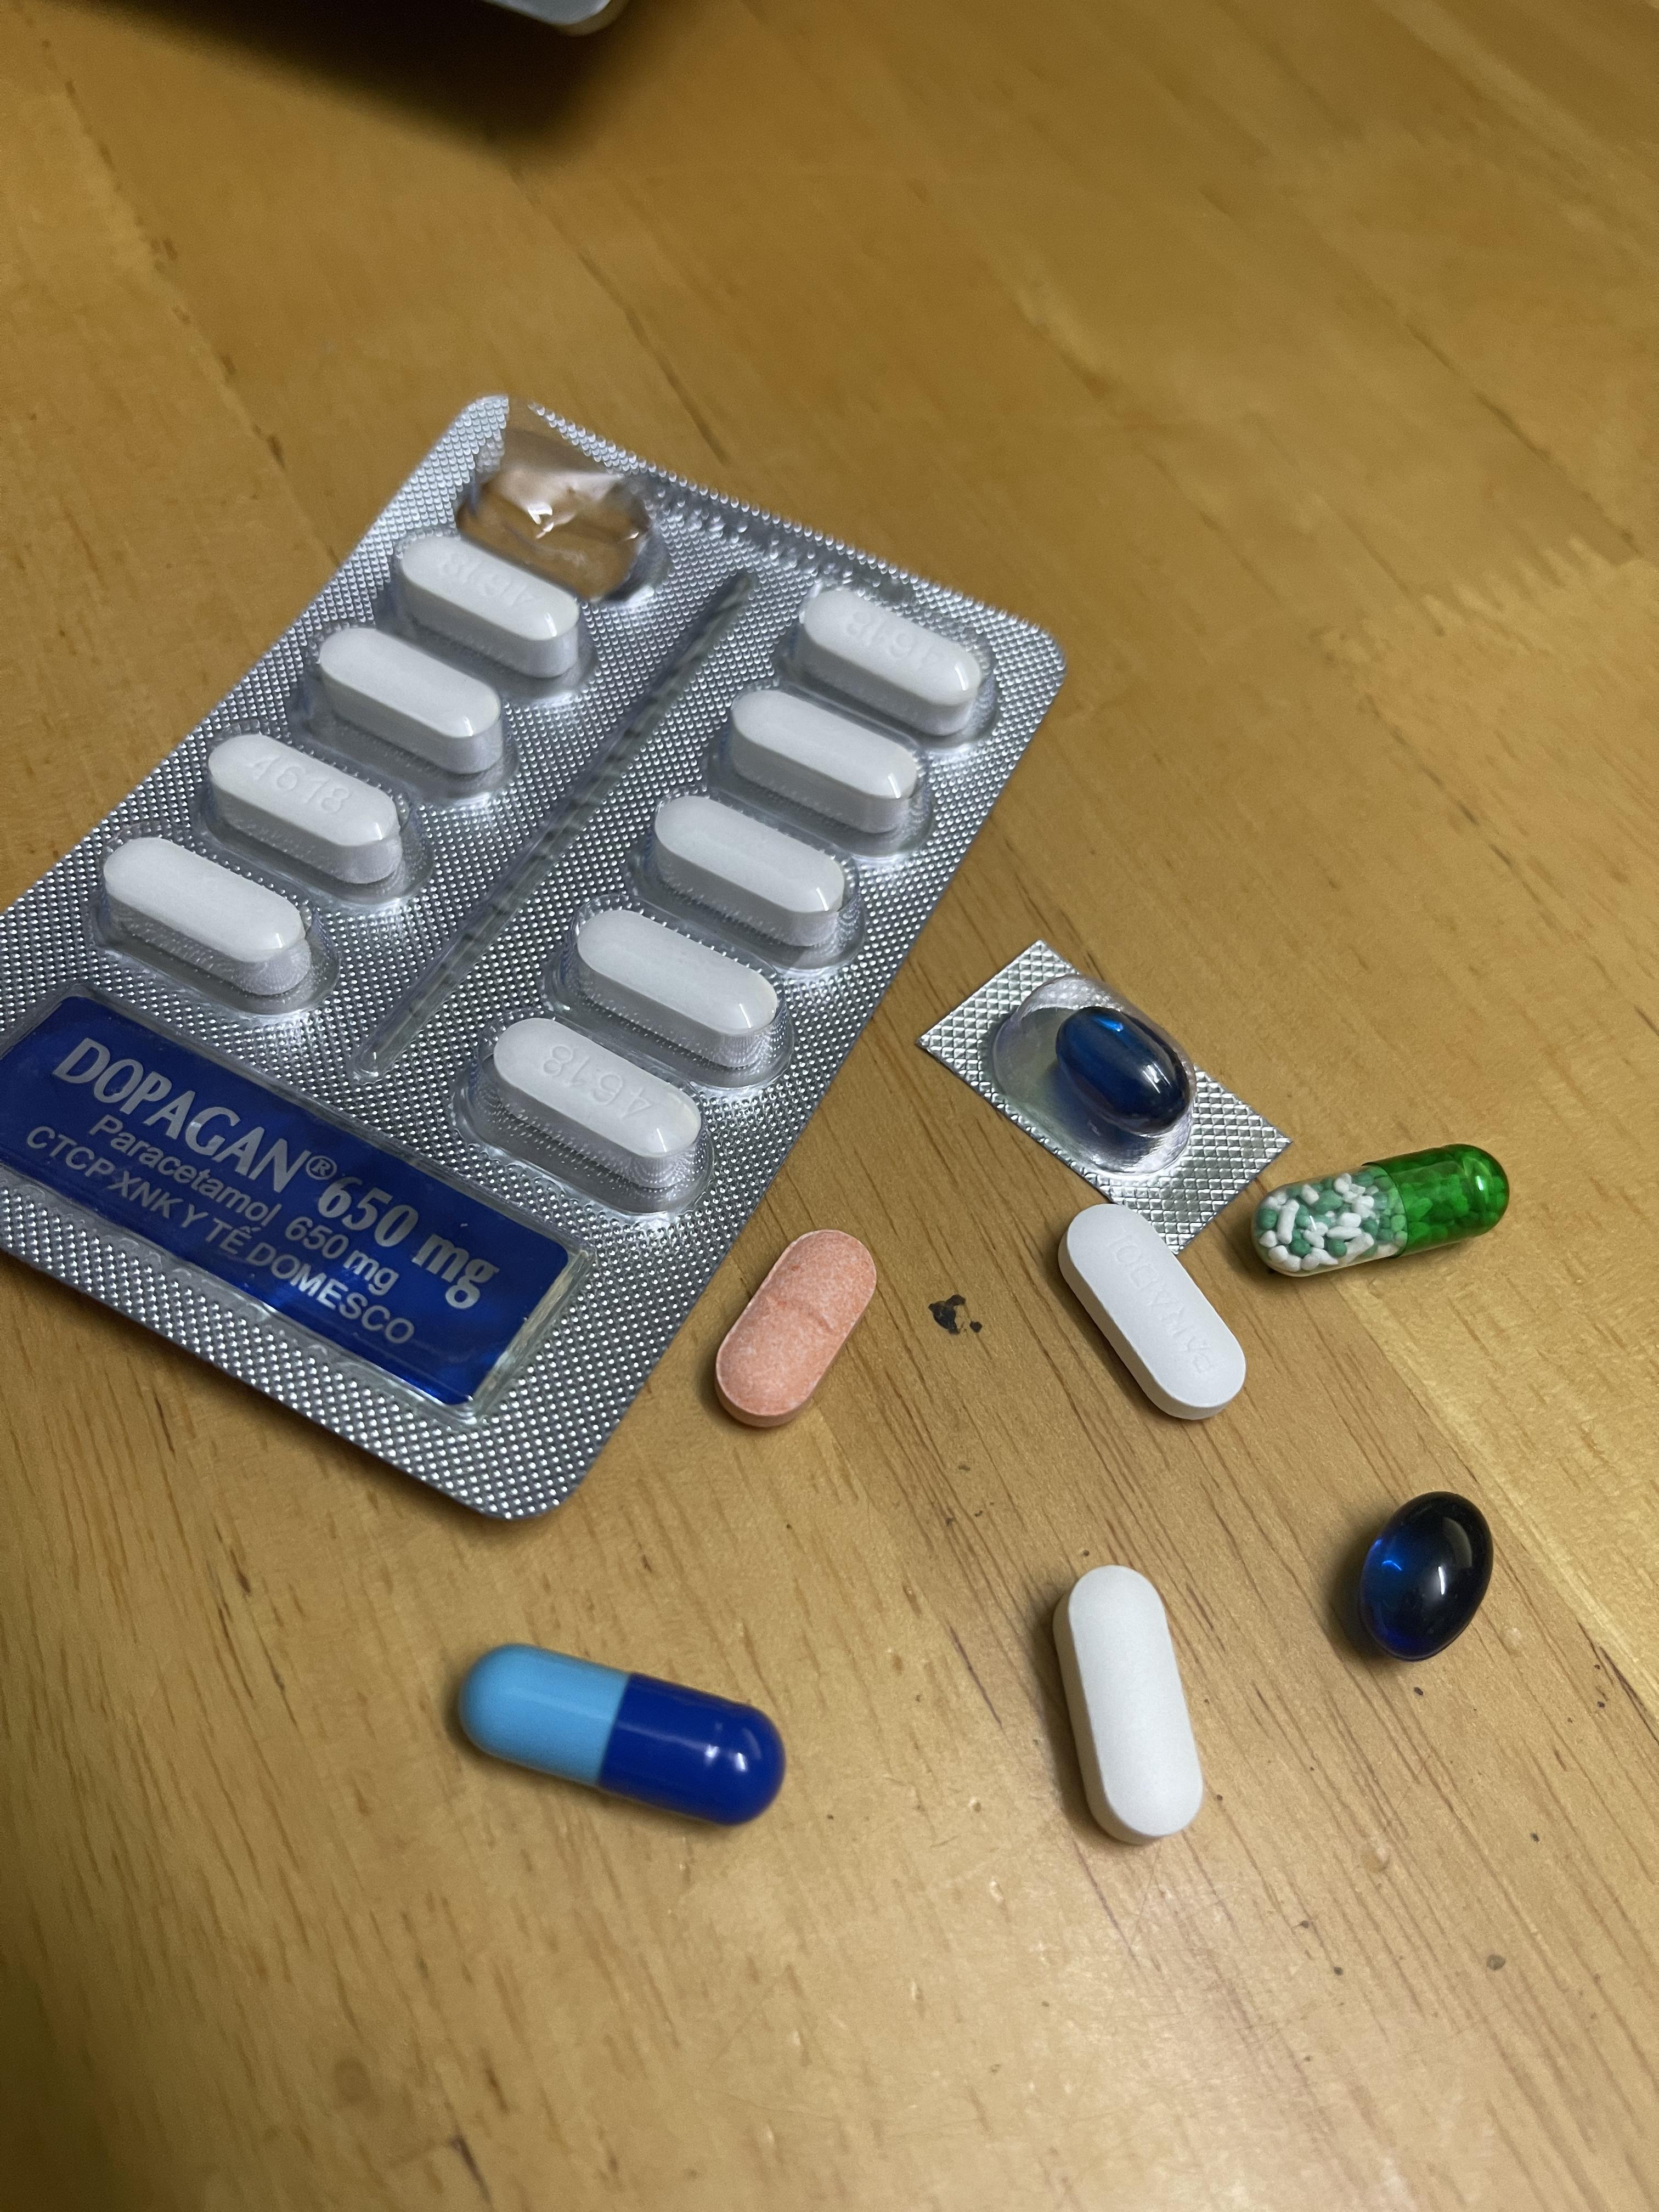Lincomyxin_500mg: (1361, 1494, 1490, 1658), (1056, 1005, 1190, 1132)
Loratadine_10mg: (714, 1231, 877, 1420)
Paracetamol_350mg: (1061, 1205, 1241, 1413)
Paracetamol_500mg: (1063, 1571, 1201, 1832), (483, 1014, 697, 1179), (573, 906, 782, 1066), (106, 840, 312, 1000), (392, 533, 587, 695), (211, 732, 410, 888), (647, 791, 850, 941), (728, 688, 924, 838), (314, 627, 502, 779), (798, 583, 992, 730)
Paracetamol_650mg: (1258, 1143, 1507, 1271)
pill: (465, 1653, 775, 1818)
